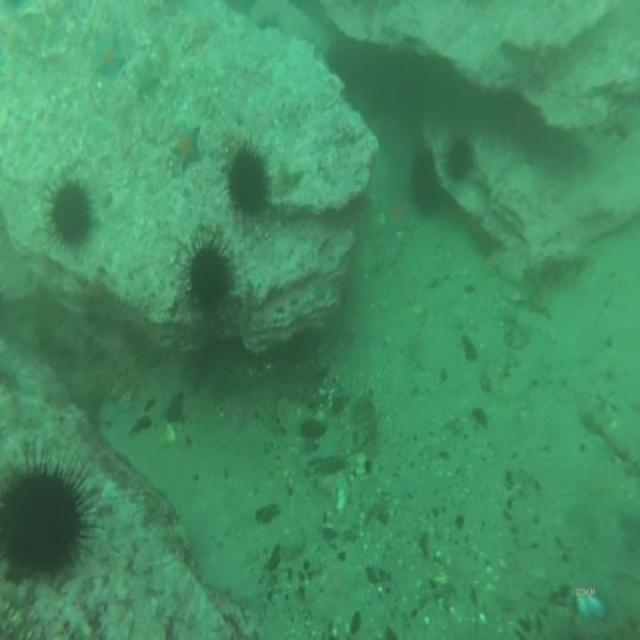echinus: (1, 471, 85, 577), (225, 150, 268, 212), (49, 182, 93, 240), (190, 245, 230, 308), (412, 150, 440, 213), (451, 144, 474, 178)
starfish: (94, 33, 126, 76), (388, 194, 414, 236), (173, 130, 199, 164)
